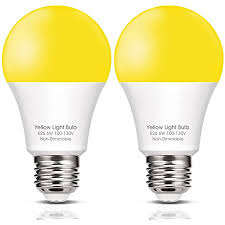bulb: (111, 3, 224, 182), (1, 4, 116, 178)
